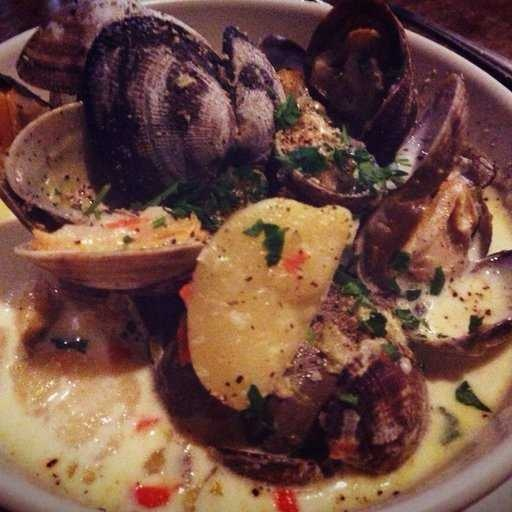soup: (13, 37, 482, 495)
